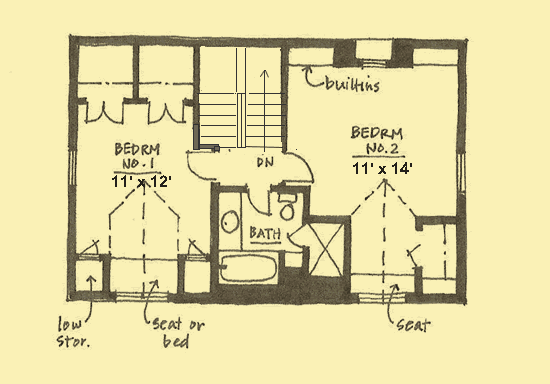door: (282, 149, 317, 184), (143, 99, 188, 125), (85, 97, 124, 126), (247, 189, 274, 217)
small_sink: (219, 194, 241, 249)
stairs: (198, 45, 287, 152)
tub: (217, 252, 279, 287)
windows: (454, 151, 469, 199)
